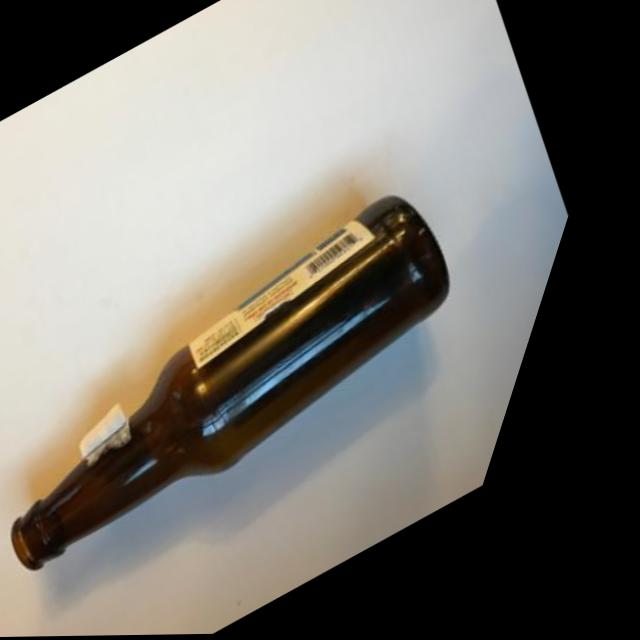glass: (0, 94, 614, 640)
